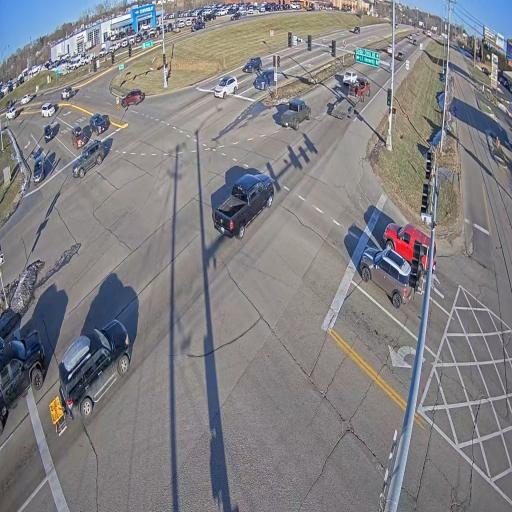pickup: (212, 172, 274, 238), (280, 99, 311, 130), (350, 78, 370, 102), (6, 107, 17, 120), (191, 21, 205, 31)
suv: (59, 319, 132, 419), (0, 329, 51, 435), (360, 247, 411, 308), (383, 223, 430, 274), (72, 139, 105, 178), (401, 237, 427, 272), (253, 69, 276, 90), (121, 89, 143, 107), (89, 113, 106, 135), (71, 125, 86, 148), (33, 155, 45, 183), (243, 56, 262, 73), (343, 71, 357, 85), (61, 85, 73, 100), (44, 124, 53, 142), (21, 93, 32, 104), (396, 50, 405, 61), (387, 44, 393, 55), (353, 27, 360, 33), (413, 39, 417, 45)
van: (213, 75, 238, 99), (41, 102, 55, 117)
